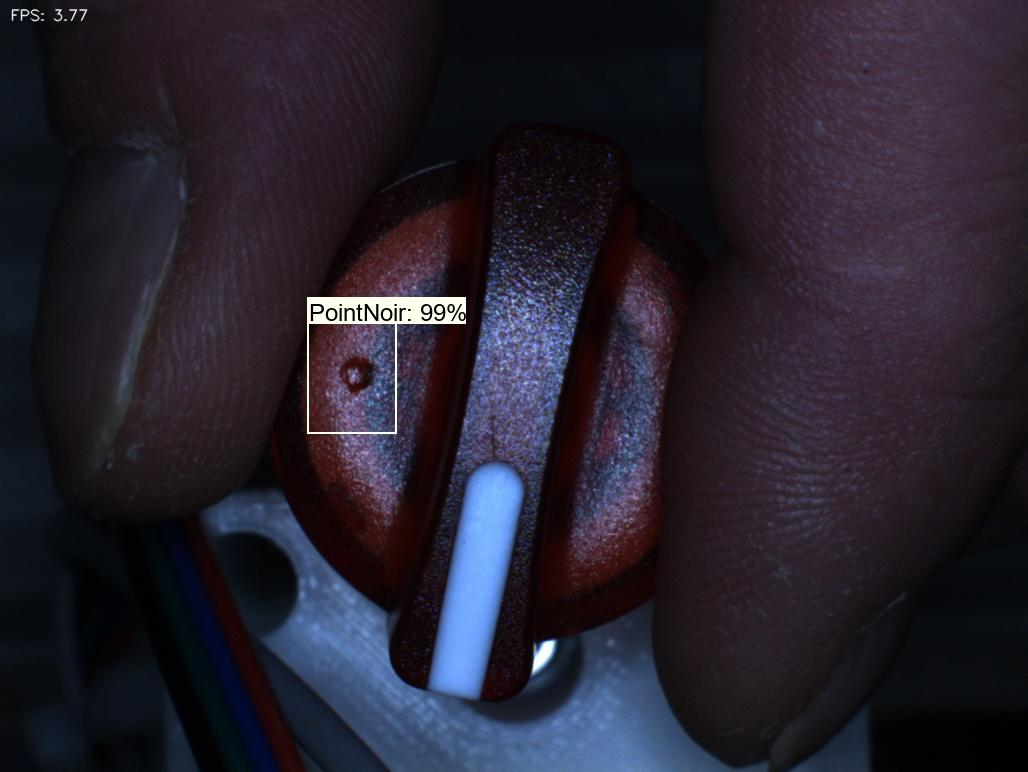Choc: (312, 333, 391, 423)
